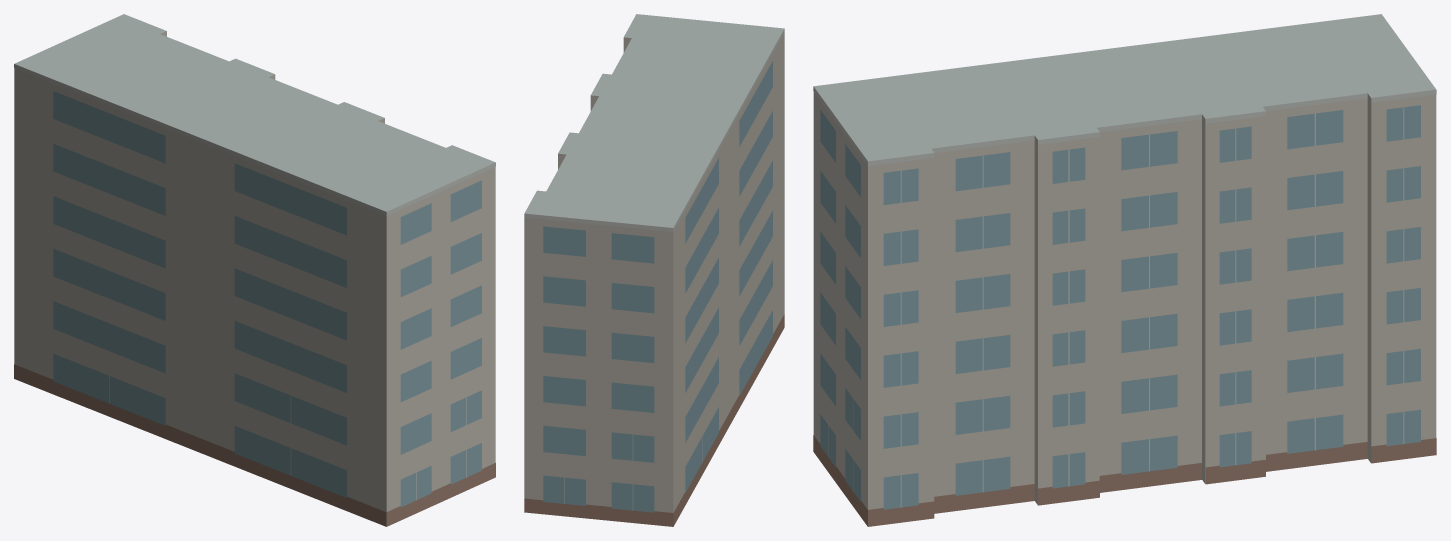
File: survey-upis-32621114.glb
The picture shows the model from 3 angles, left to right: view 1: azimuth 30°, elevation 25°; view 2: azimuth 150°, elevation 25°; view 3: azimuth 270°, elevation 25°; orthographic projection. The views are drawn at different scales.
Parts seen in each view (by area): view 1: survey-upis-32621114.tmp; view 2: survey-upis-32621114.tmp; view 3: survey-upis-32621114.tmp.
Boxes of the visible parts, x1,y1,x2,y2 form: survey-upis-32621114.tmp: [14, 14, 495, 526]; survey-upis-32621114.tmp: [524, 14, 784, 526]; survey-upis-32621114.tmp: [813, 14, 1436, 526].
Size of the model in its own units: 15.71 by 18.15 by 28.05.
